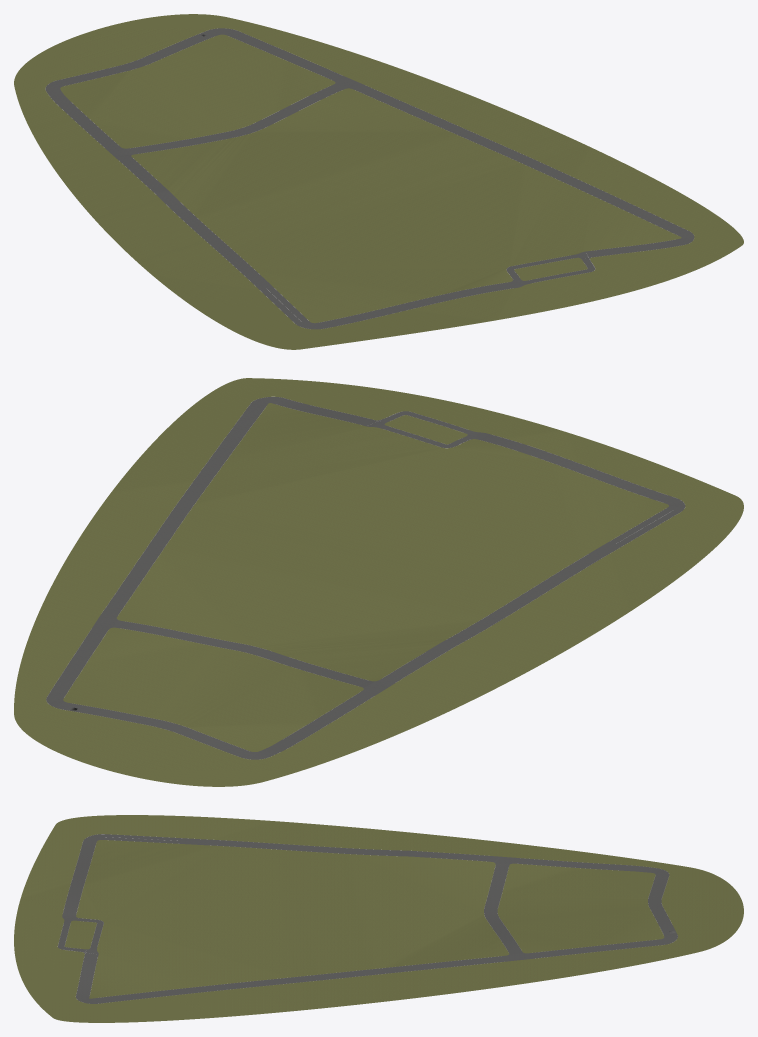
File: Campus02_new_rr.fbx
The picture shows the model from 3 angles, top to bottom: view 1: azimuth 30°, elevation 25°; view 2: azimuth 150°, elevation 25°; view 3: azimuth 270°, elevation 25°; orthographic projection. The views are drawn at different scales.
Visible parts, largest first — view 1: Terrain_GroundNode, Terrain_Ground_1Node, Terrain_Ground_2Node, Terrain_Ground_3Node, Roads_Road_2Node, Roads_Road_1Node, Roads_Road_3Node, Roads_RoadNode; view 2: Terrain_GroundNode, Terrain_Ground_1Node, Terrain_Ground_2Node, Terrain_Ground_3Node, Roads_Road_2Node, Roads_Road_1Node, Roads_RoadNode, Roads_Road_3Node; view 3: Terrain_Ground_1Node, Terrain_GroundNode, Terrain_Ground_2Node, Terrain_Ground_3Node, Roads_Road_1Node, Roads_Road_2Node, Roads_RoadNode, Roads_Road_3Node.
Boxes of the visible parts, box(x1,y1,x2,y2) form: Terrain_GroundNode: box(106, 166, 531, 349); Terrain_Ground_1Node: box(329, 118, 743, 313); Terrain_Ground_2Node: box(14, 22, 328, 231); Terrain_Ground_3Node: box(125, 14, 525, 166); Roads_Road_2Node: box(45, 47, 267, 207); Roads_Road_1Node: box(454, 130, 694, 289); Roads_Road_3Node: box(167, 28, 466, 133); Roads_RoadNode: box(170, 204, 505, 329); Terrain_GroundNode: box(301, 420, 743, 660); Terrain_Ground_1Node: box(82, 378, 526, 587); Terrain_Ground_2Node: box(74, 588, 548, 786); Terrain_Ground_3Node: box(14, 534, 300, 759); Roads_Road_2Node: box(121, 630, 477, 759); Roads_Road_1Node: box(147, 397, 497, 550); Roads_RoadNode: box(463, 436, 685, 633); Roads_Road_3Node: box(46, 547, 232, 719); Terrain_Ground_1Node: box(14, 911, 378, 1022); Terrain_GroundNode: box(16, 815, 378, 916); Terrain_Ground_2Node: box(379, 829, 743, 921); Terrain_Ground_3Node: box(379, 917, 741, 1002); Roads_Road_1Node: box(58, 911, 378, 1003); Roads_Road_2Node: box(379, 849, 669, 920); Roads_RoadNode: box(63, 834, 378, 910); Roads_Road_3Node: box(379, 916, 677, 974).
Size of the model in its own units: 289 by 424 by 12.04.
